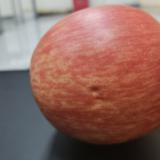apple: (28, 5, 160, 144)
